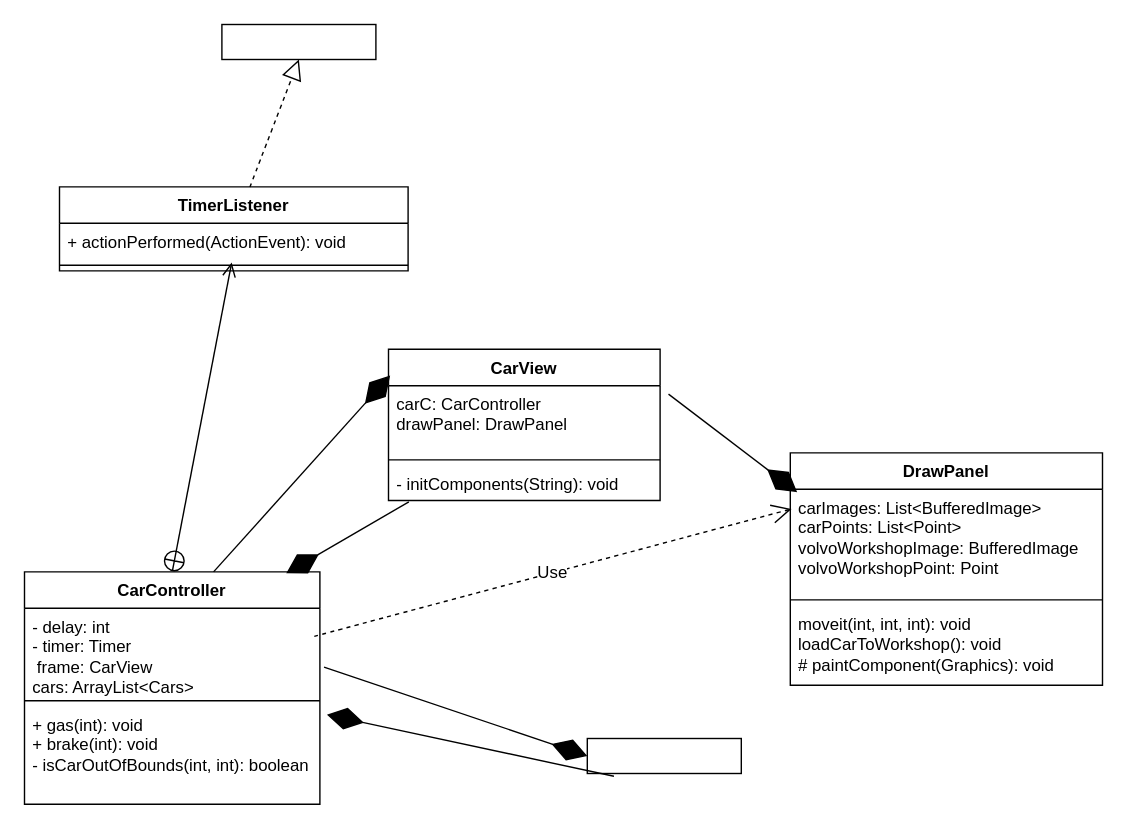
This 1127x833 diagram has some shape labels left out. The shapes that lost their labels are listed below. From the top down, each one's centre as x and y in pixels, then its label:
At (298,41): "ActionListener".
At (663,755): "CarController.Timer".
